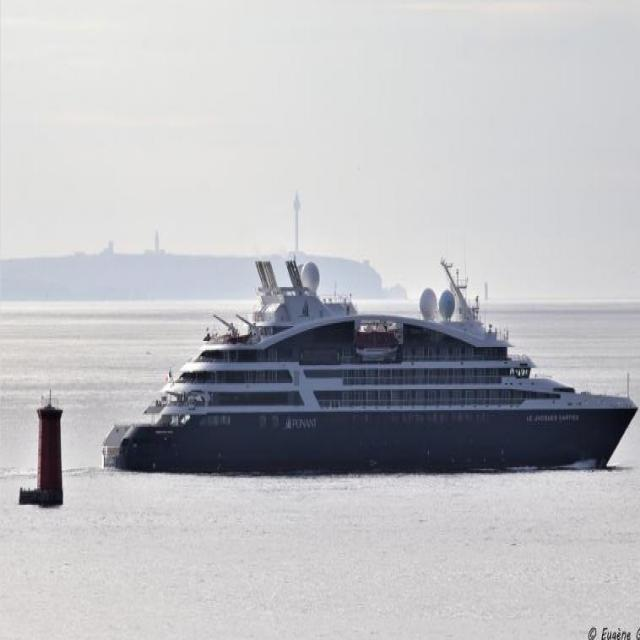cruises: (97, 245, 640, 490)
